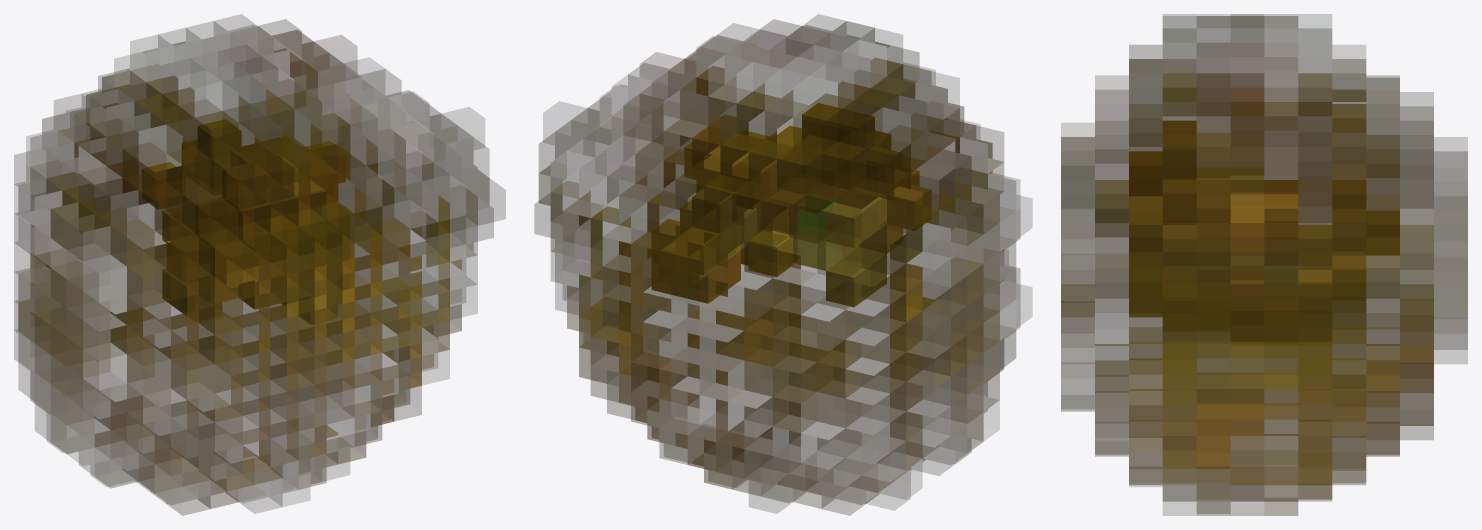
The model's file is iter_30.obj.
3 views of the same model, side by side, from view 1: azimuth 30°, elevation 25°; view 2: azimuth 150°, elevation 25°; view 3: azimuth 270°, elevation 25° (orthographic). The views are drawn at different scales.
Visible parts, largest first — view 1: iter_30; view 2: iter_30; view 3: iter_30.
Part boxes in pixels (<box>): iter_30: <box>14,14,505,515</box>; iter_30: <box>534,14,1031,515</box>; iter_30: <box>1061,14,1467,515</box>.
Bounding box in the file's own units: 1.5 × 1.4 × 1.2.
